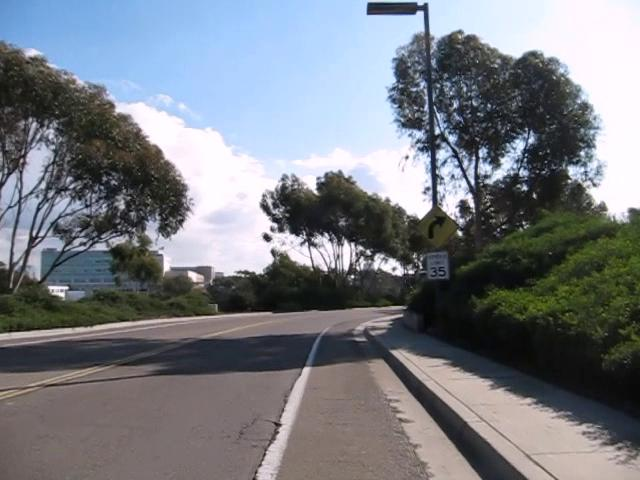speedLimit35: (424, 250, 449, 280)
